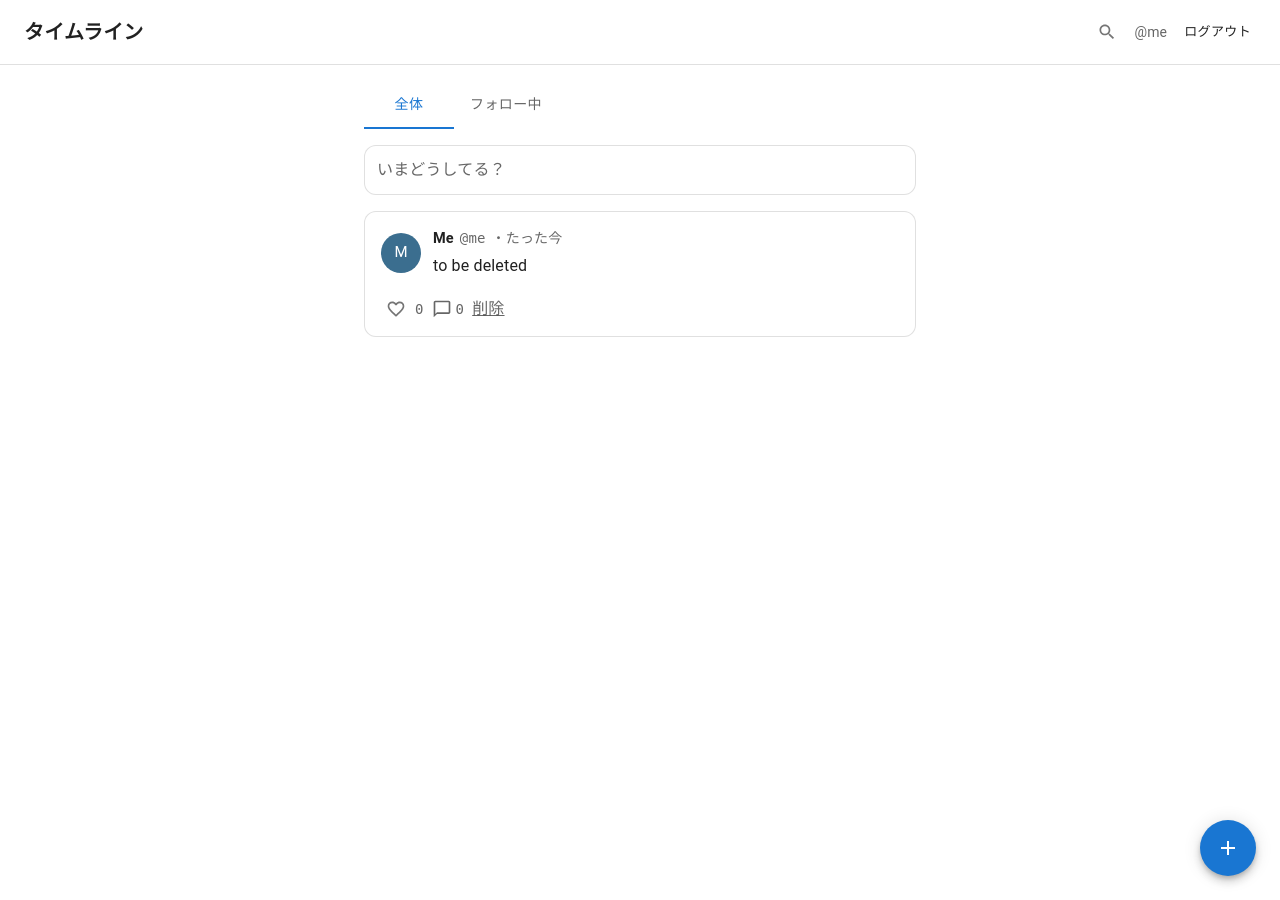
TimelinePage › deletes an own post after confirming
Expected: the text "to be deleted" is shown, left=433, top=256, right=527, bottom=275
Click the button "削除".
click(488, 309)  # box left=472, top=297, right=504, bottom=321
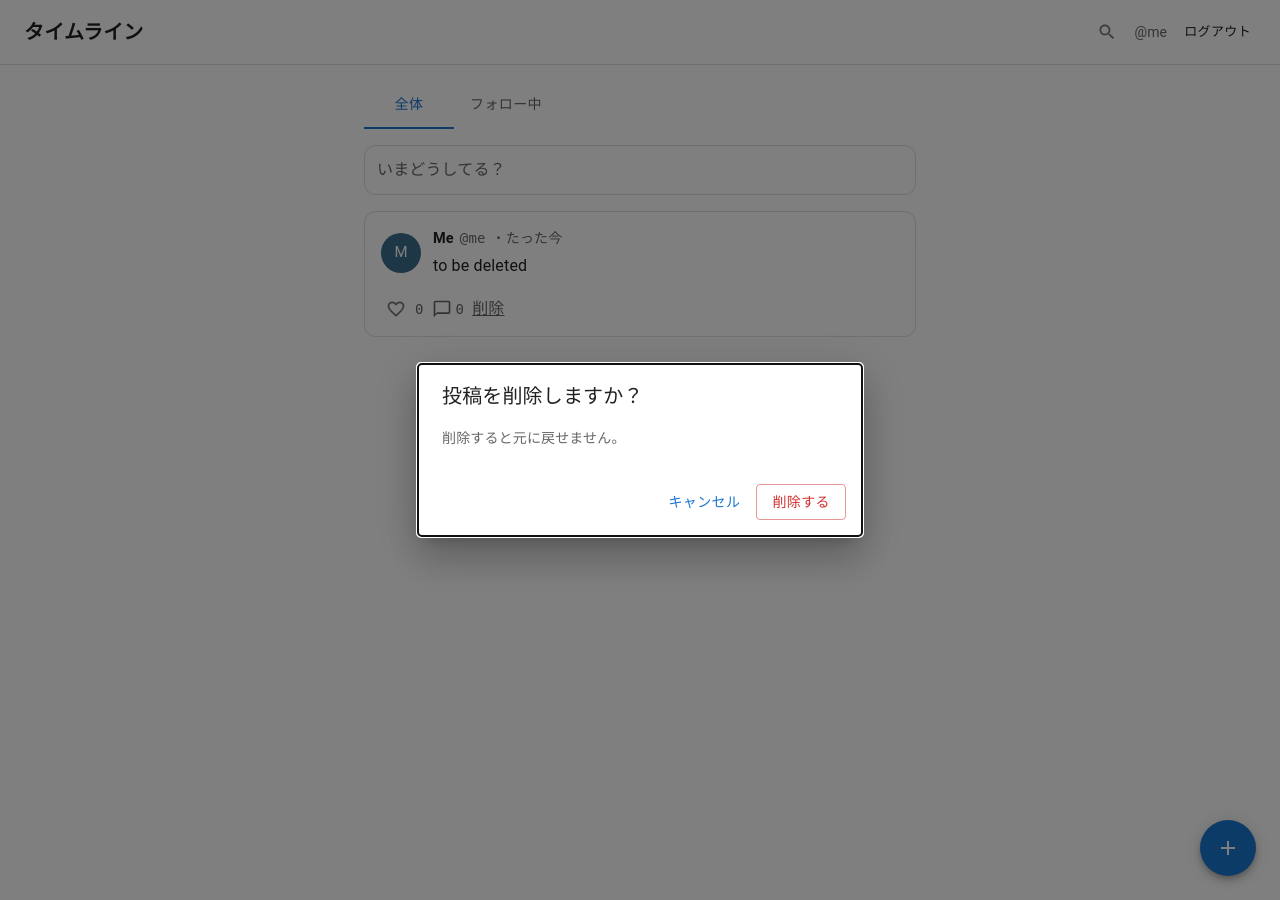
Now the heading "投稿を削除しますか？" is shown, box left=442, top=384, right=644, bottom=408
Click the button "削除する".
click(801, 502)  # box left=756, top=484, right=846, bottom=520
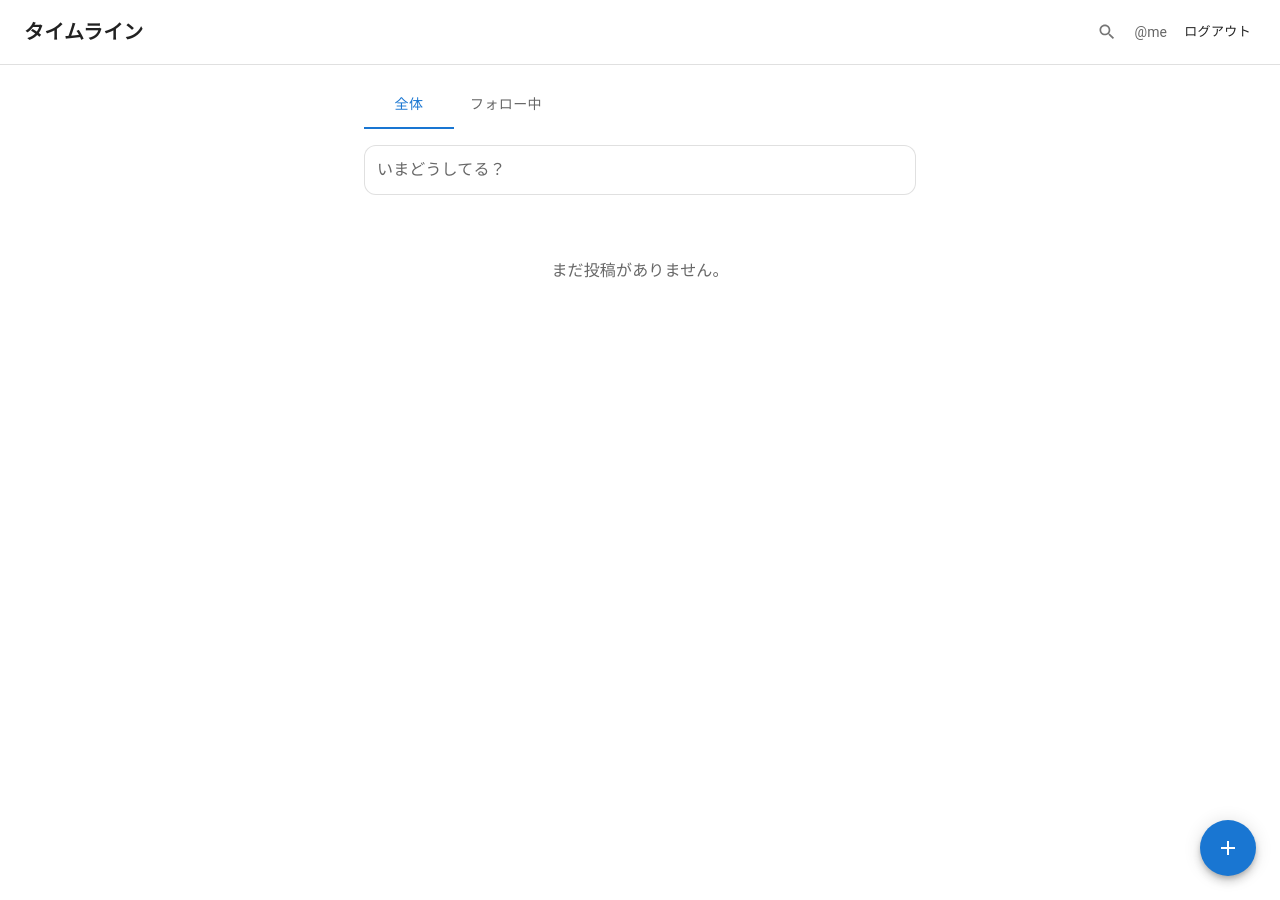
Now the button "to be deleted" is gone
